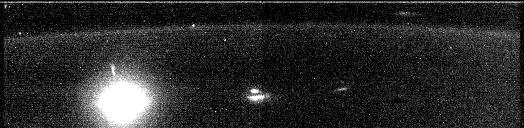positive: (107, 61, 119, 80)
